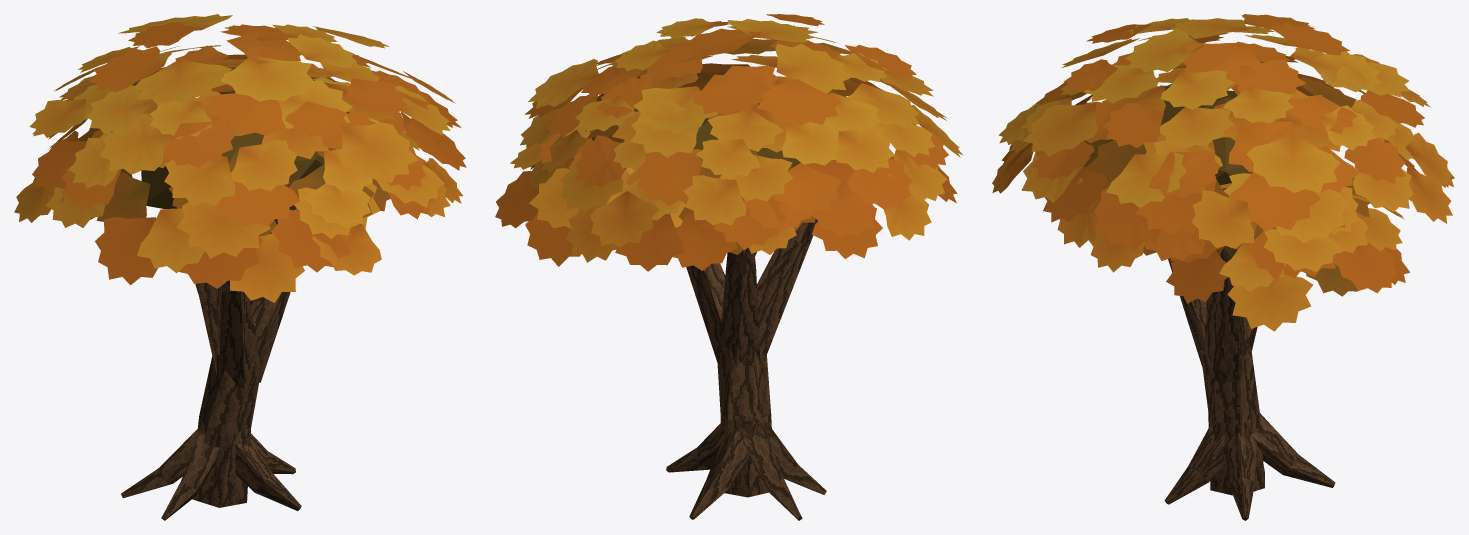
File: tree_c.glb
3 renders of one model, left to right at view 1: azimuth 30°, elevation 25°; view 2: azimuth 150°, elevation 25°; view 3: azimuth 270°, elevation 25°, orthographic. The views are drawn at different scales.
Parts seen in each view (by area): view 1: sway_crown.002, tree_c; view 2: sway_crown.002, tree_c; view 3: sway_crown.002, tree_c.
Part boxes in pixels (box(x1,y1,x2,y2)): sway_crown.002: box(14, 14, 466, 389); tree_c: box(121, 354, 301, 520); sway_crown.002: box(495, 14, 963, 367); tree_c: box(666, 343, 826, 520); sway_crown.002: box(992, 14, 1454, 382); tree_c: box(1164, 345, 1335, 520).
Size of the model in its own units: 6 by 6.21 by 5.84.
Materials: 3 (1 with a texture image).
